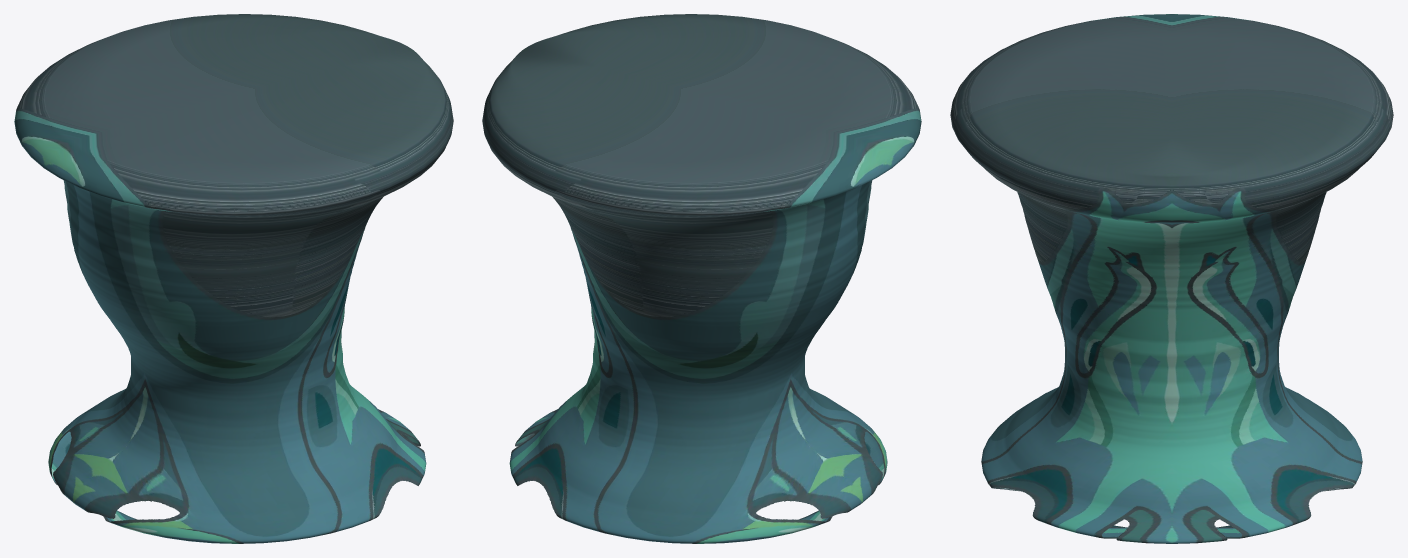
File: blue_tree.glb
3 renders of one model, left to right at view 1: azimuth 30°, elevation 25°; view 2: azimuth 150°, elevation 25°; view 3: azimuth 270°, elevation 25°, orthographic.
Visible parts, largest first — view 1: blue_tree; view 2: blue_tree; view 3: blue_tree.
Part boxes in pixels (x1,y1,x2,y2): blue_tree: [14, 14, 453, 543]; blue_tree: [482, 14, 921, 543]; blue_tree: [950, 14, 1393, 543].
Bounding box in the file's own units: 0.9973 × 0.9741 × 0.9973.
Materials: 1 (1 with a texture image).
